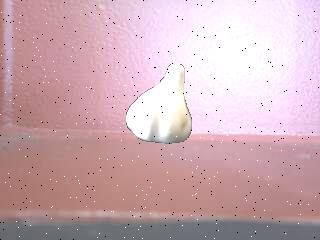Garlic: (126, 63, 193, 144)
